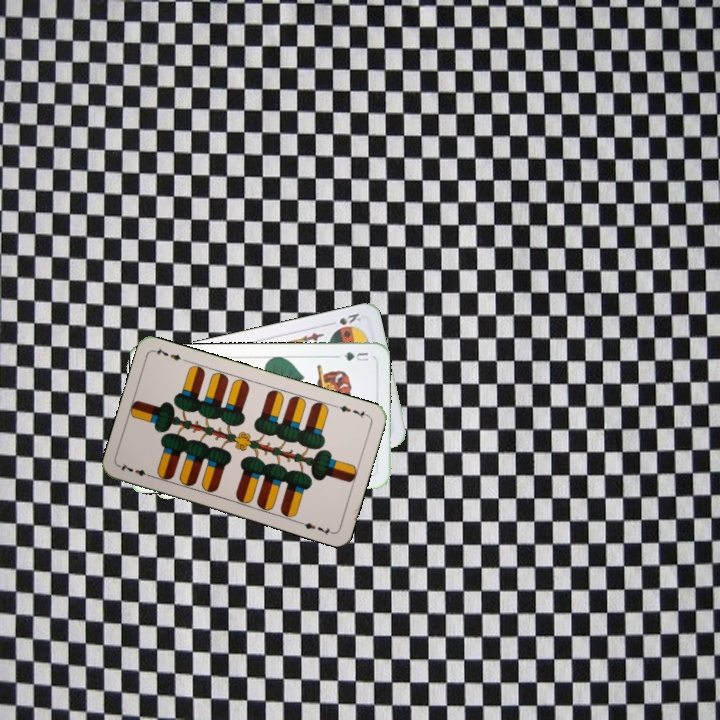E7: (116, 459, 156, 480), (331, 401, 371, 421)
GU: (333, 348, 372, 364)
SK: (332, 309, 364, 332)
